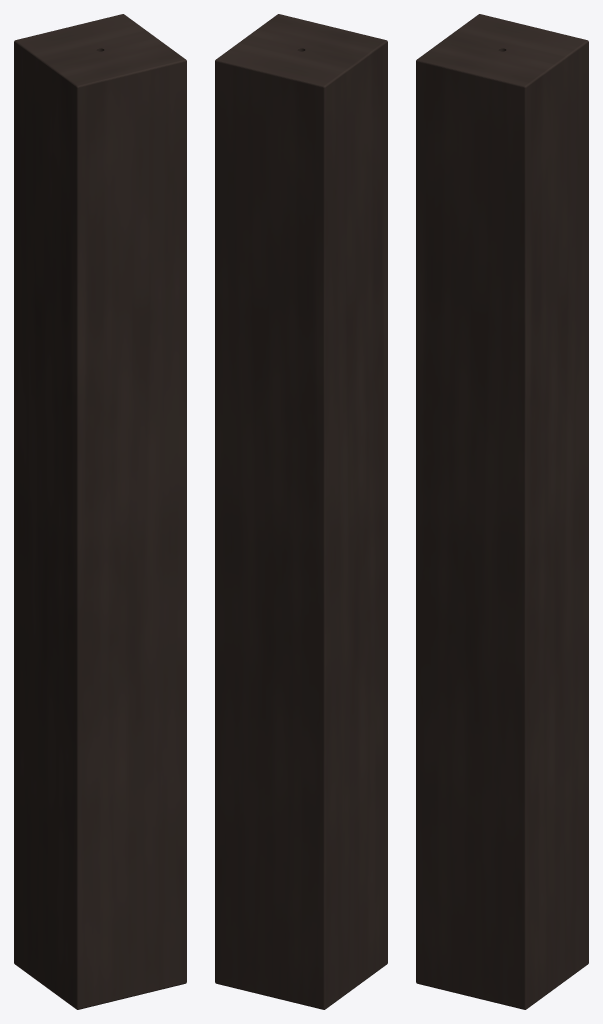
File: leg.glb
3 views of the same model, side by side, from view 1: azimuth 30°, elevation 25°; view 2: azimuth 150°, elevation 25°; view 3: azimuth 330°, elevation 25° (orthographic).
Visible parts, largest first — view 1: leg; view 2: leg; view 3: leg.
Boxes of the visible parts, box(x1,y1,x2,y2) form: leg: box(14, 14, 186, 1009); leg: box(215, 14, 387, 1009); leg: box(416, 14, 588, 1009).
Size of the model in its own units: 0.05 by 0.4 by 0.05.
Materials: 1 (1 with a texture image).
